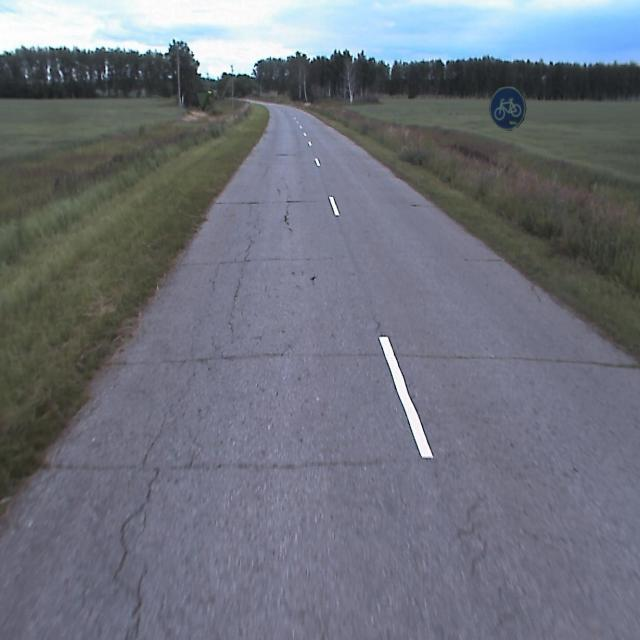road: (0, 105, 639, 639)
